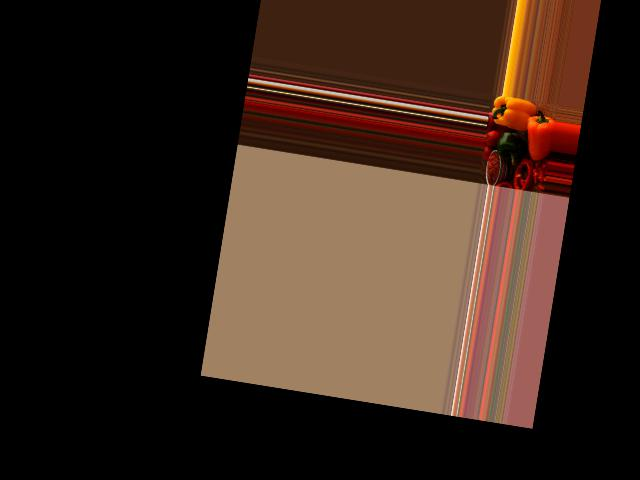bell_pepper: (490, 95, 530, 132)
